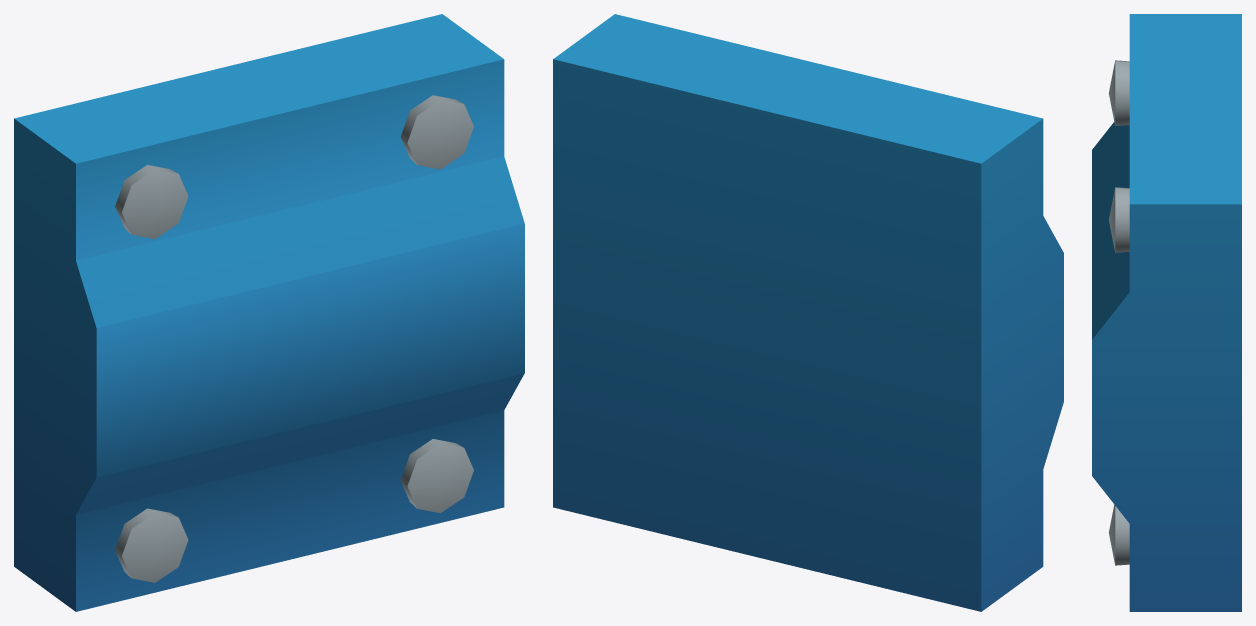
File: kaykit_bracing_medium_blue.glb
3 renders of one model, left to right at view 1: azimuth 30°, elevation 25°; view 2: azimuth 150°, elevation 25°; view 3: azimuth 270°, elevation 25°, orthographic. The views are drawn at different scales.
Parts seen in each view (by area): view 1: bracing_medium_blue_visual; view 2: bracing_medium_blue_visual; view 3: bracing_medium_blue_visual.
Part boxes in pixels (bbox=[...]): bracing_medium_blue_visual: bbox=[14, 14, 524, 611]; bracing_medium_blue_visual: bbox=[553, 14, 1063, 611]; bracing_medium_blue_visual: bbox=[1092, 14, 1241, 611].
Size of what is drawn, in the model's own units: 0.6 by 0.6 by 0.2.
Materials: 1 (1 with a texture image).
